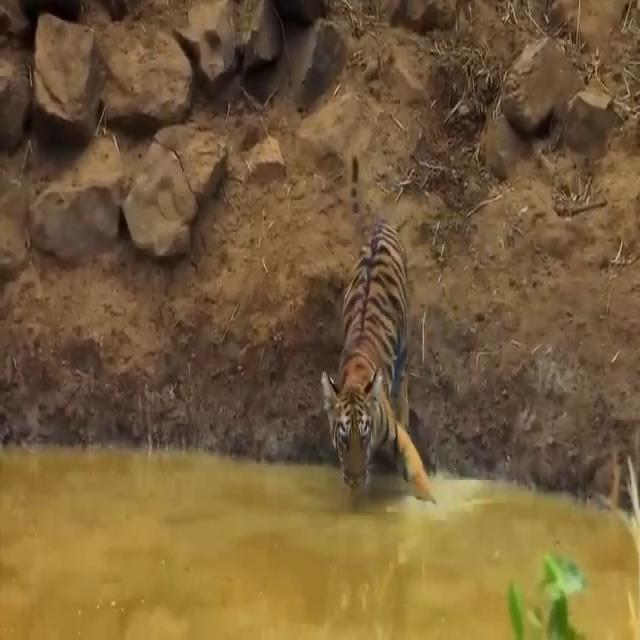tiger: (320, 218, 432, 500)
